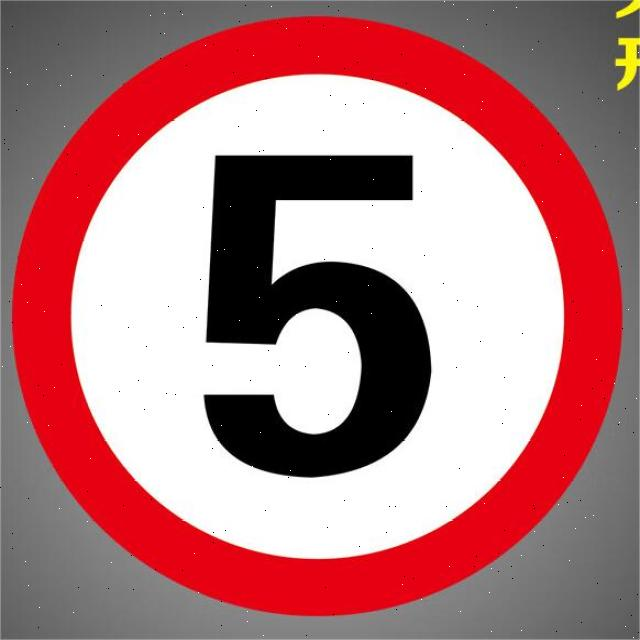speed limit 10: (8, 15, 624, 617)
